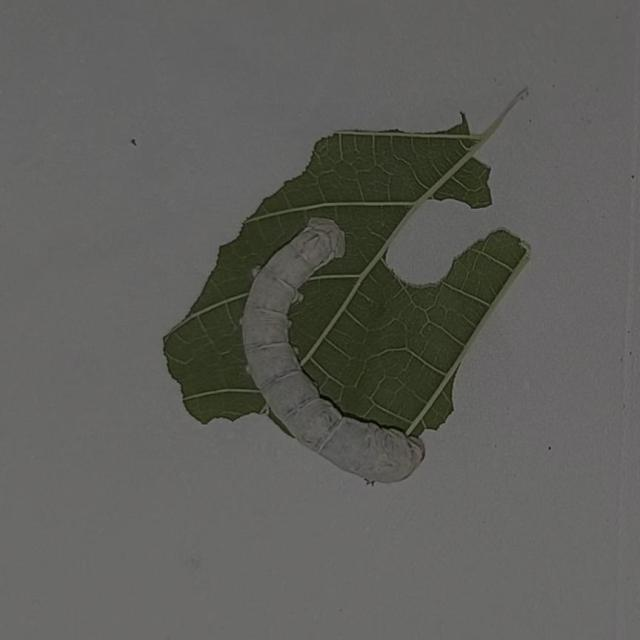Healthy: (235, 209, 440, 495)
